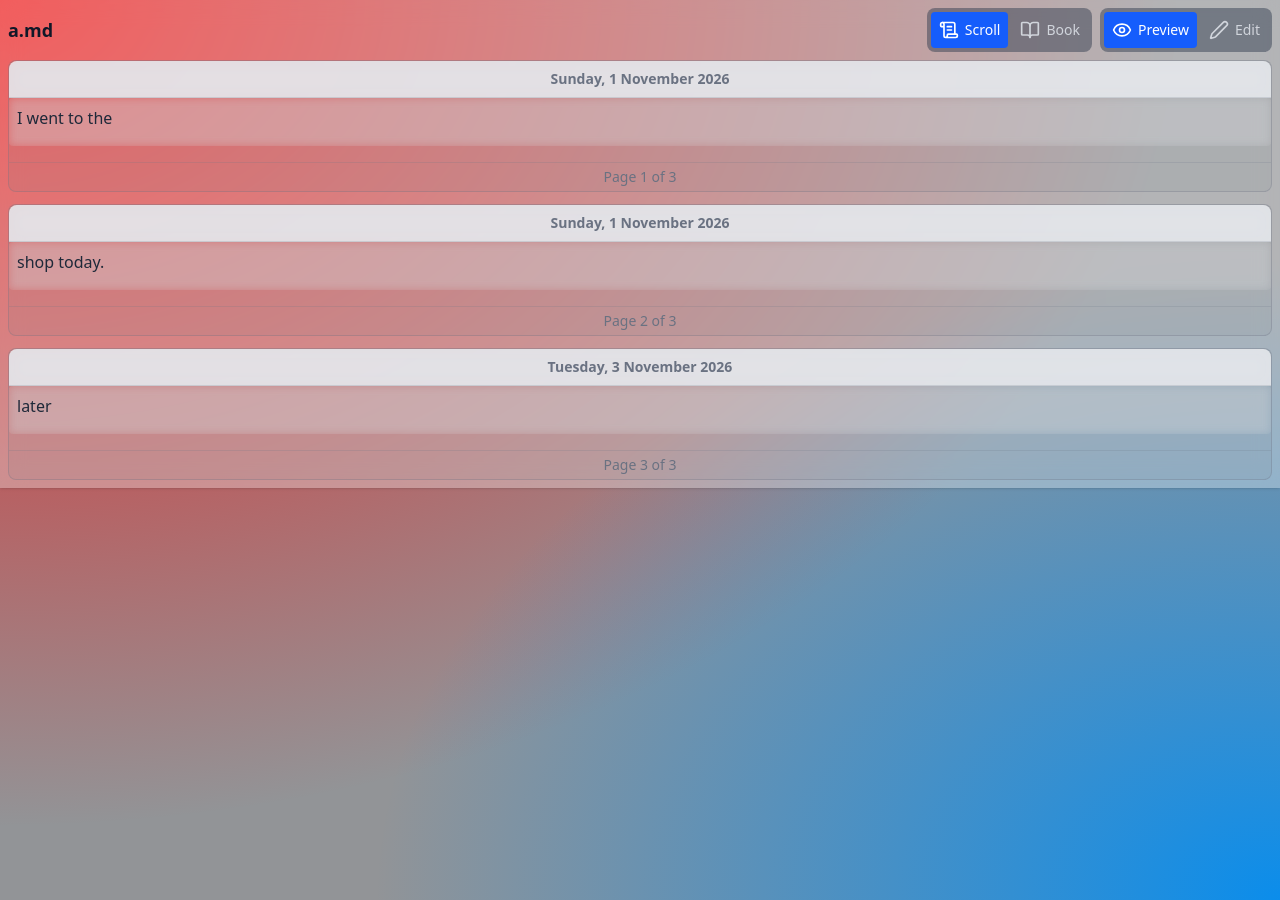
Test: DiaryEditor merging same-day pages › asks first, then joins the pages and leaves other days alone
Click the button with aria-label "Edit mode": (1234, 30) [1201, 12, 1268, 48]
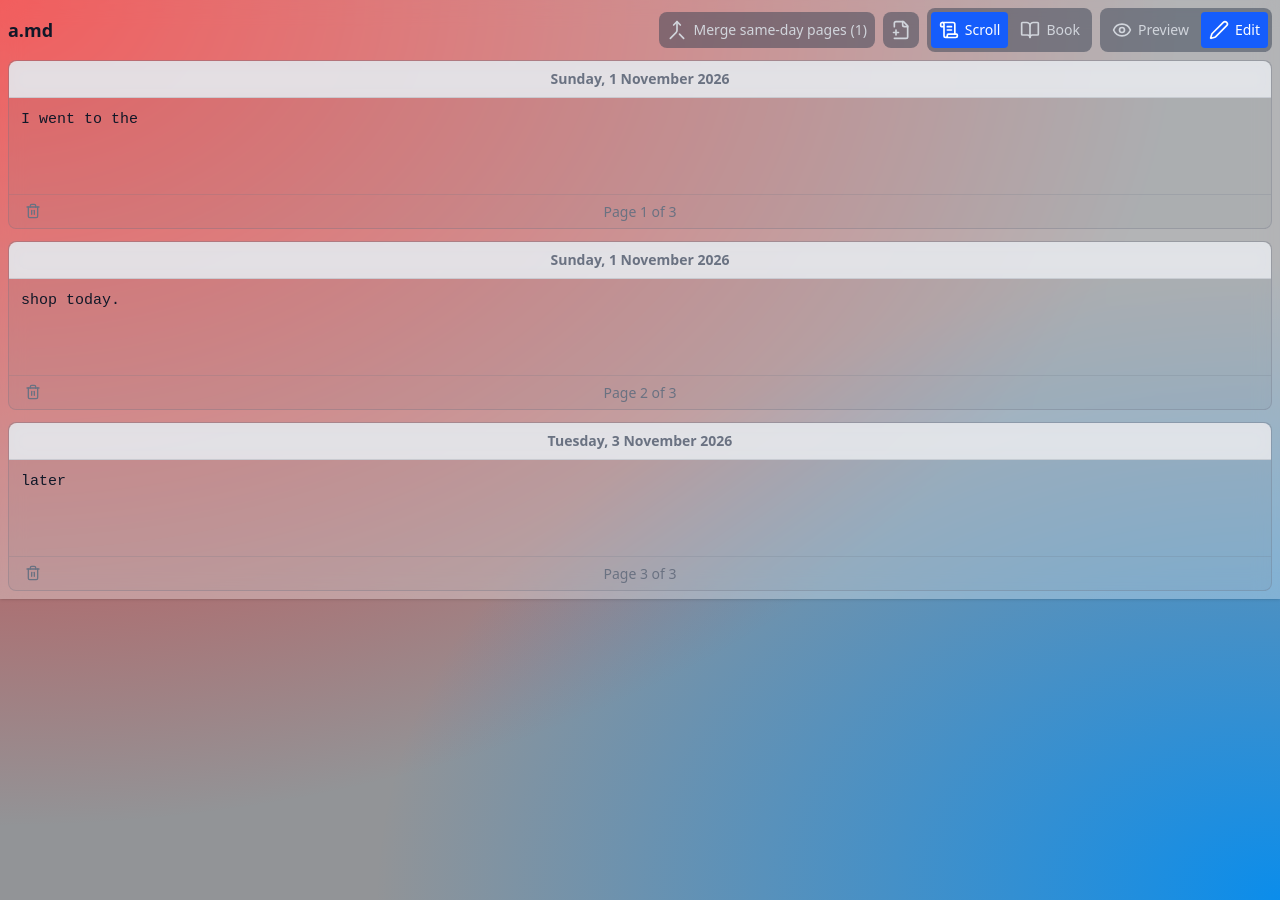
Click the button labelled "Merge same-day pages (1)": (767, 30) [659, 12, 875, 48]
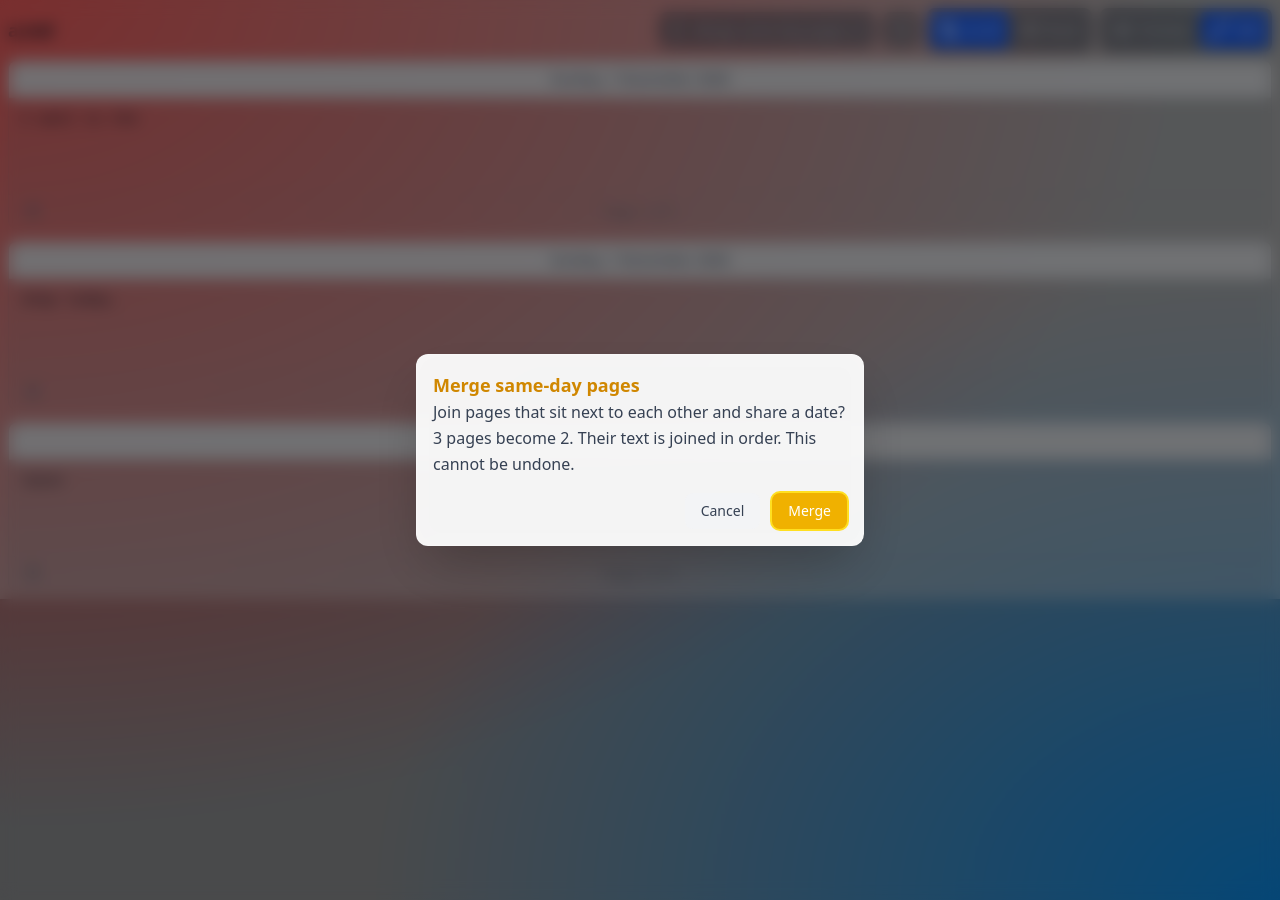
Result: the text "3 pages become 2" is shown at [433, 401, 845, 475]
Click the button "Merge": (810, 511) [772, 493, 847, 529]
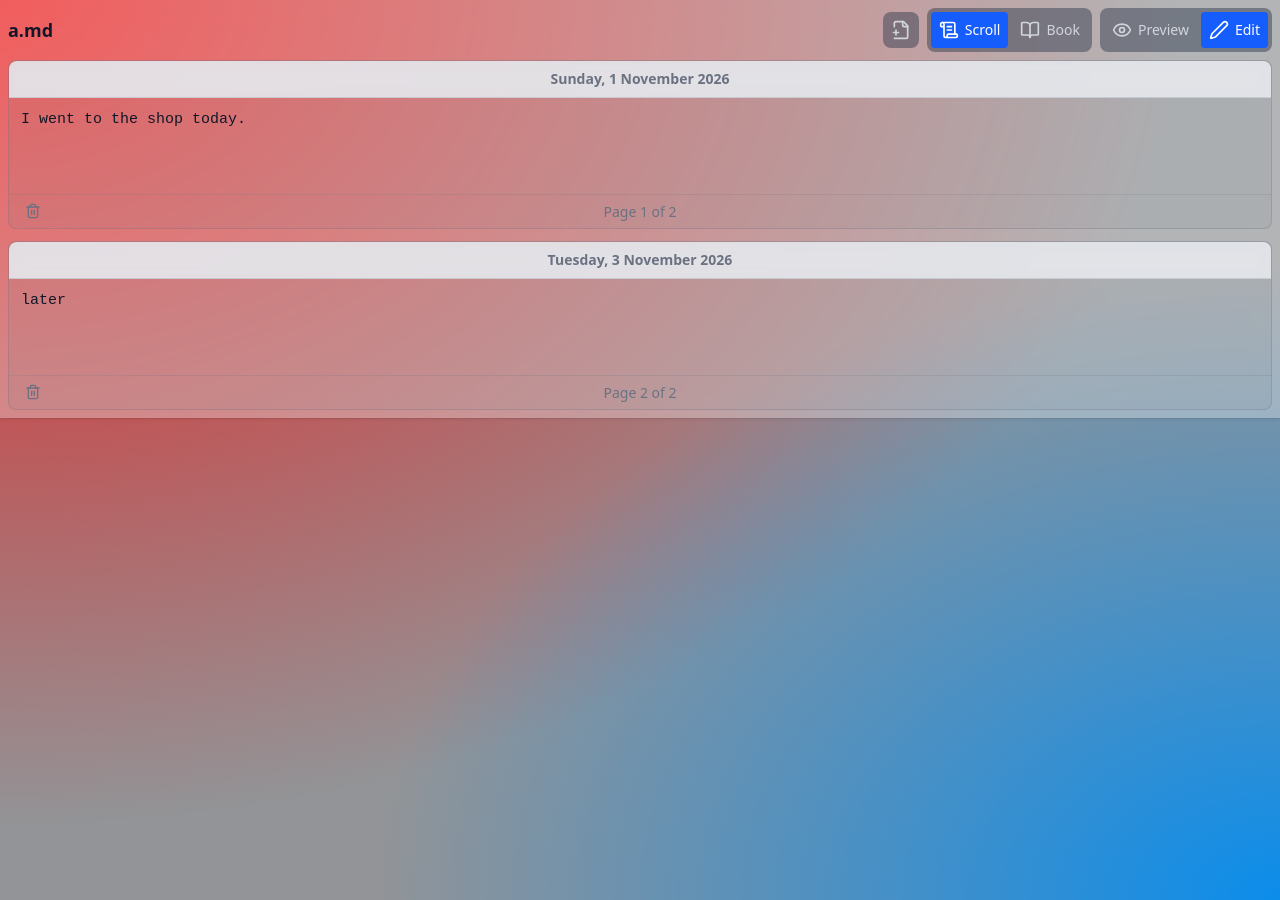
Result: the button labelled "Merge same-day pages" is gone
